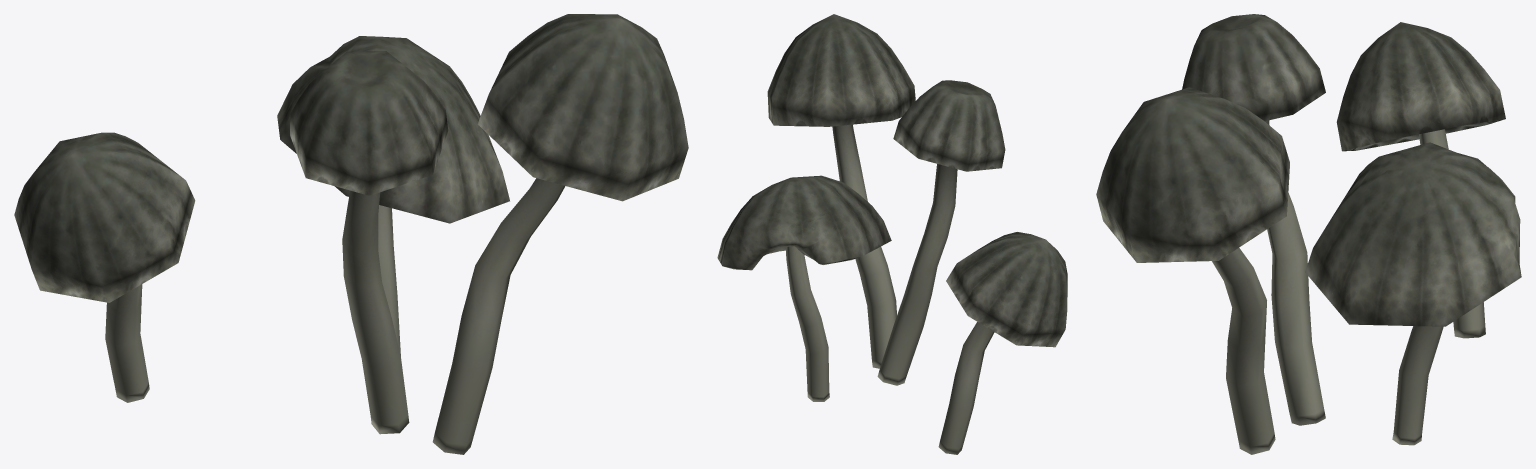
Rendered from cave_mushrooms_01.dae.
3 views of the same model, side by side, from view 1: azimuth 30°, elevation 25°; view 2: azimuth 150°, elevation 25°; view 3: azimuth 270°, elevation 25° (orthographic). The views are drawn at different scales.
Visible parts, largest first — view 1: bunch_1; view 2: bunch_1; view 3: bunch_1.
Part boxes in pixels (bbox=[...]): bunch_1: bbox=[14, 14, 688, 454]; bunch_1: bbox=[717, 14, 1067, 454]; bunch_1: bbox=[1096, 14, 1521, 454].
Bounding box in the file's own units: 0.3475 × 0.2728 × 0.2606.
